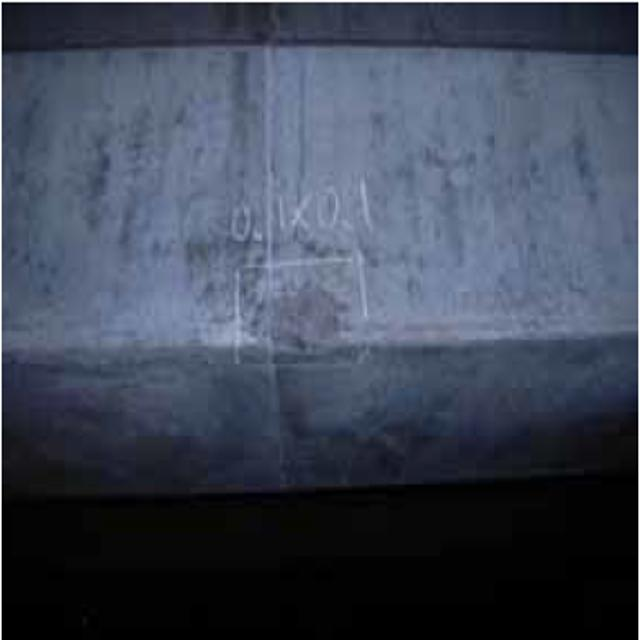spalling: (239, 263, 364, 363)
